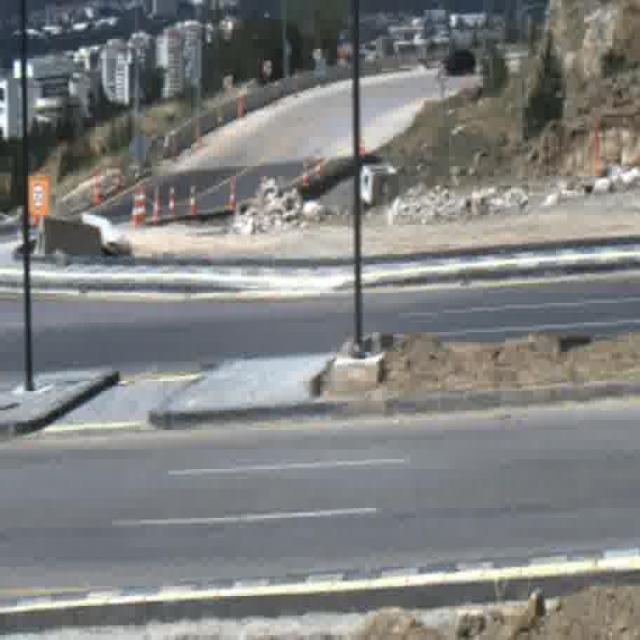Car: (442, 50, 476, 77)
